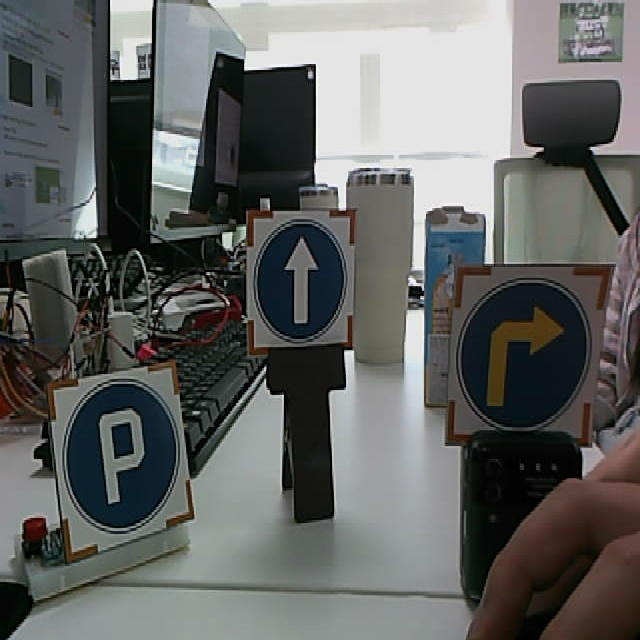parking: (47, 359, 196, 564)
right: (445, 264, 614, 449)
straight: (247, 211, 353, 353)
